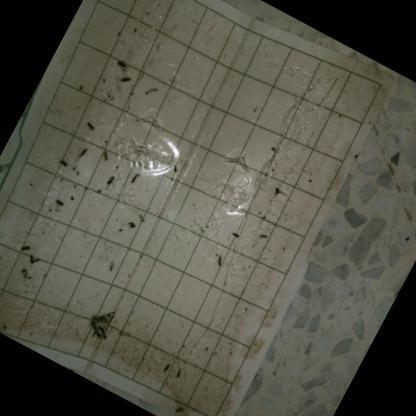prays_oleae: (26, 247, 45, 269), (123, 216, 141, 239), (98, 144, 115, 168), (14, 264, 32, 286), (158, 358, 174, 380), (126, 172, 143, 192), (228, 229, 246, 247), (76, 143, 92, 163), (172, 363, 188, 382), (102, 172, 118, 190), (52, 198, 68, 215), (84, 119, 100, 136), (18, 241, 34, 258), (213, 252, 227, 271), (114, 56, 129, 72), (118, 72, 132, 89), (172, 401, 187, 416), (55, 156, 69, 172), (258, 228, 271, 242)
